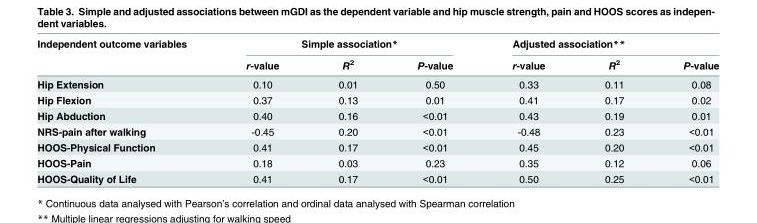table: (36, 37, 718, 184)
table column: (36, 37, 215, 184), (386, 37, 481, 184), (215, 37, 308, 184), (481, 37, 574, 184), (574, 37, 653, 184), (308, 37, 386, 184), (653, 37, 718, 184)
table column header: (36, 37, 718, 74)
table row: (36, 53, 718, 74), (36, 74, 718, 91), (36, 37, 718, 53), (36, 91, 718, 107), (36, 107, 718, 123), (36, 138, 718, 154), (36, 154, 718, 170), (36, 123, 718, 138), (36, 170, 718, 184)
table spanning cell: (36, 37, 215, 74), (215, 37, 481, 53), (481, 37, 718, 53)
